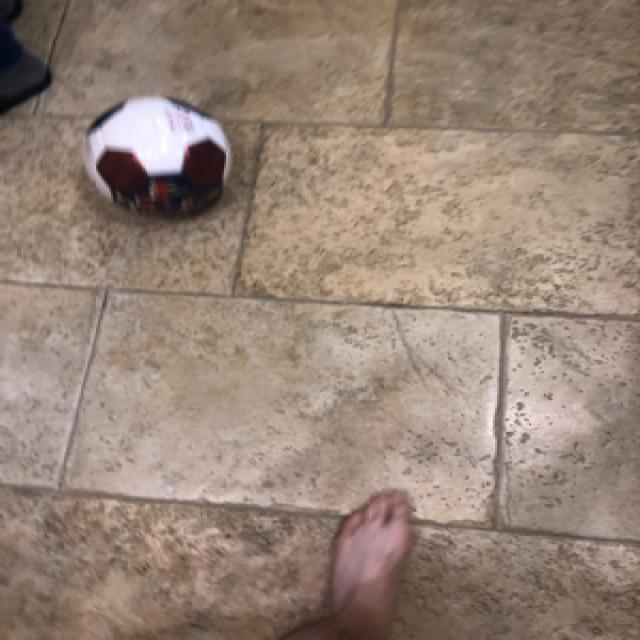soccer_ball: (77, 91, 230, 221)
